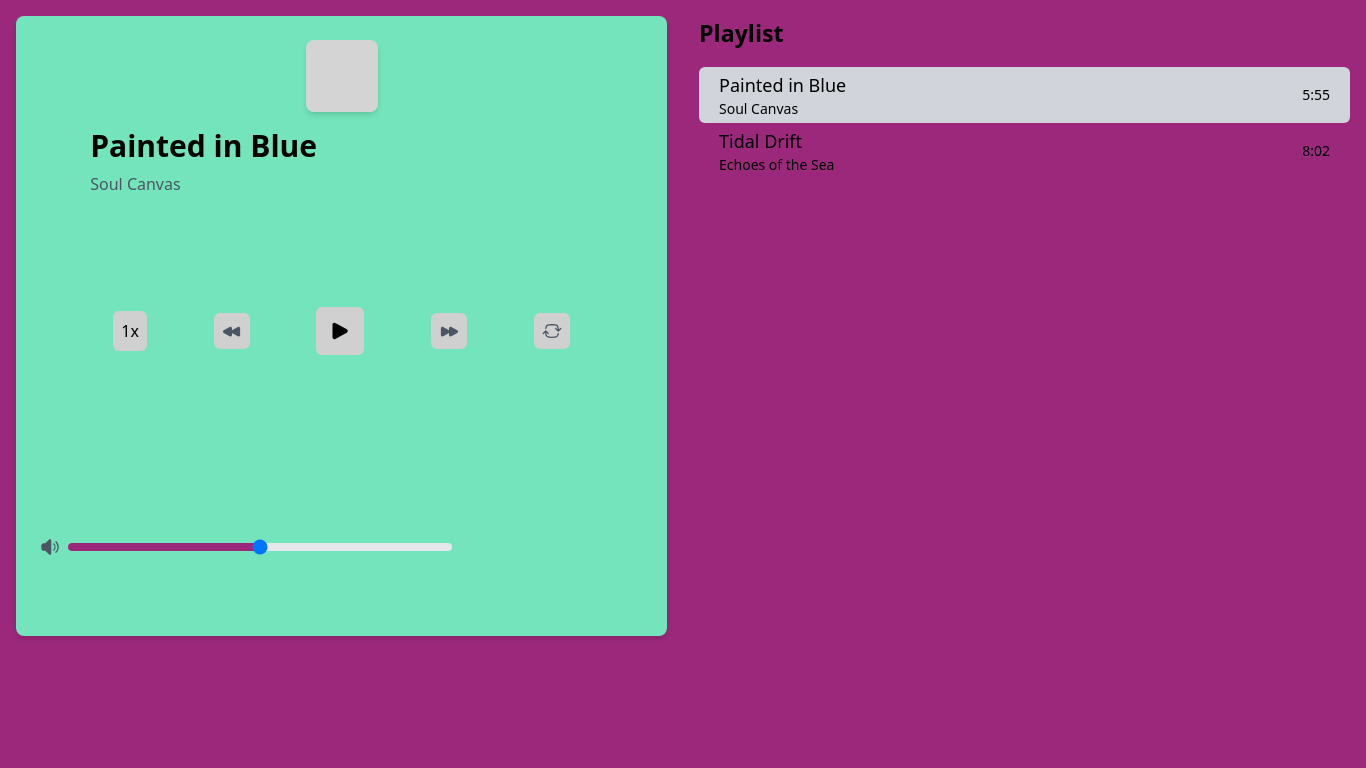
Test: MusicPlayer component › changes the current song when a playlist item is clicked
Click the element with test id "playlist-item" that starts with "Tidal Drift" at point(761, 141), box [699,123,1350,179]
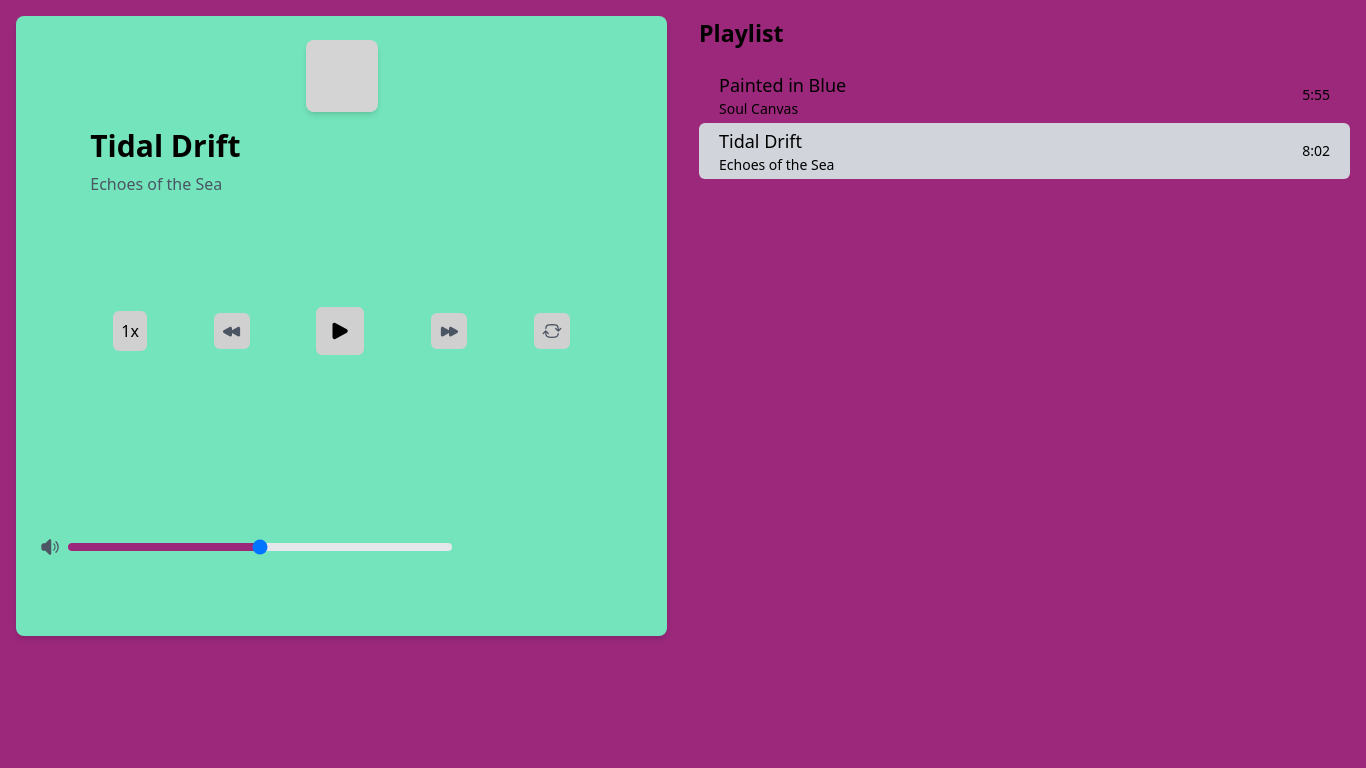
Check: the 1st heading "Tidal Drift" is shown, box [90,125,240,166]
